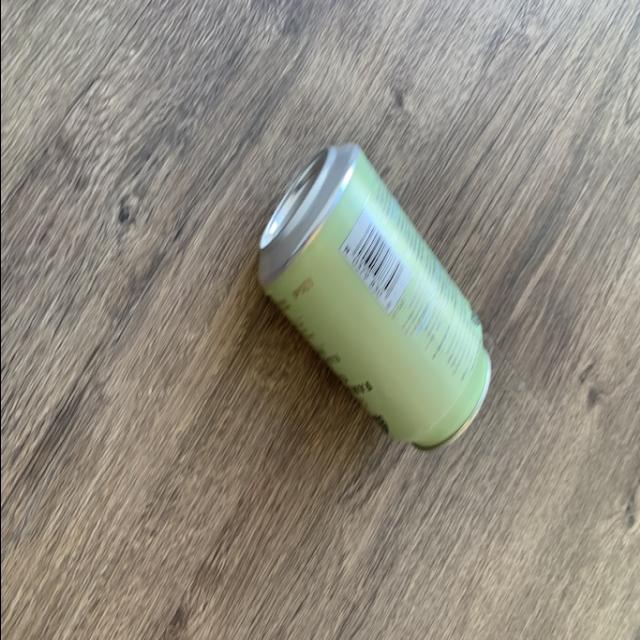litter: (249, 138, 490, 462)
